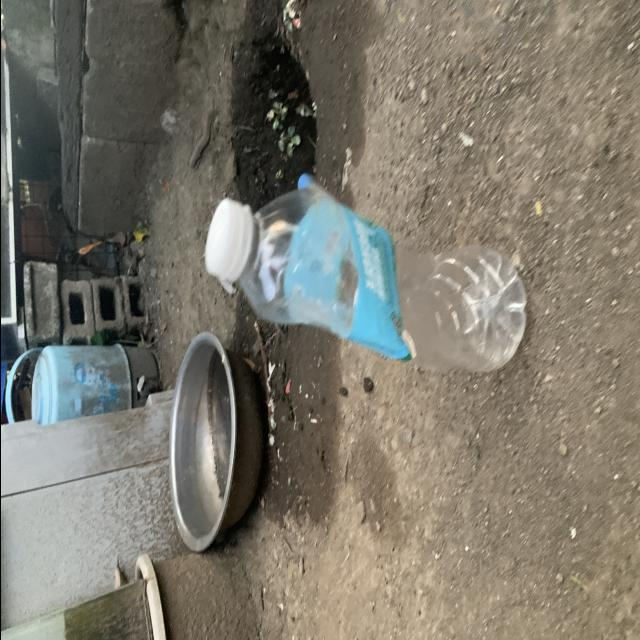Bottle: (204, 184, 525, 371)
